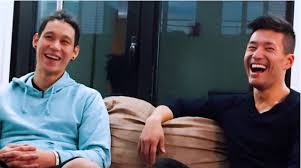asian_male: (31, 10, 83, 78)
